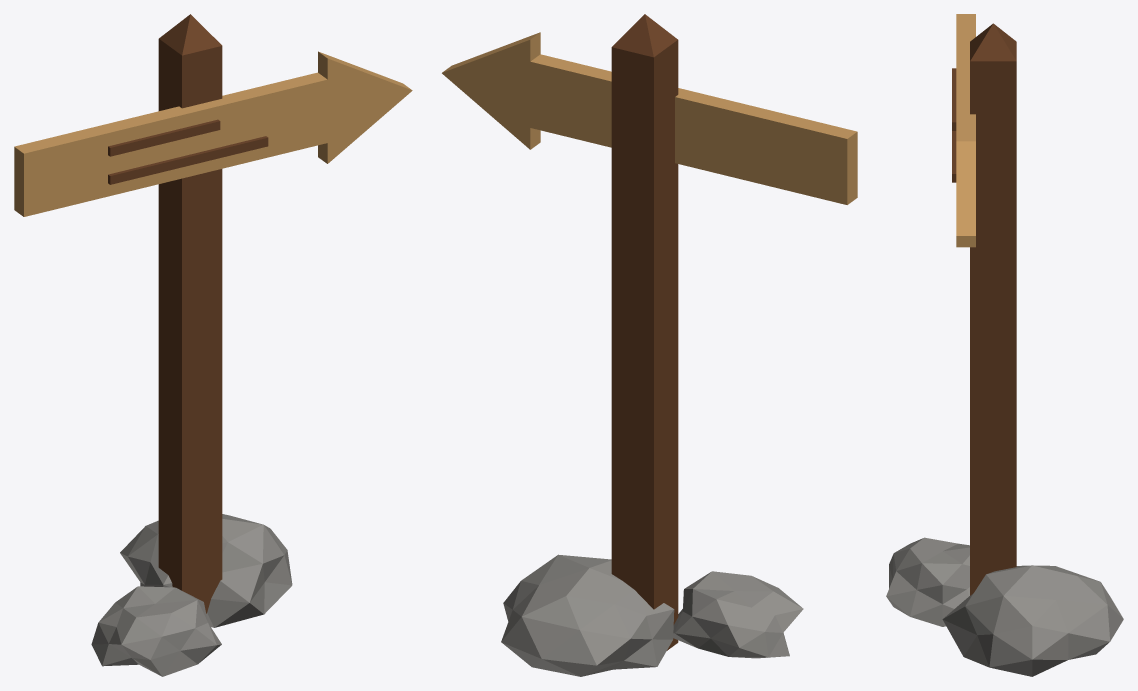
Rendered from signpost-arrow-pixor.glb.
The picture shows the model from 3 angles, left to right: view 1: azimuth 30°, elevation 25°; view 2: azimuth 150°, elevation 25°; view 3: azimuth 270°, elevation 25°; orthographic projection. The views are drawn at different scales.
Parts seen in each view (by area): view 1: Sign post, Sign face, Sign stones, Sign lettering; view 2: Sign post, Sign face, Sign stones; view 3: Sign post, Sign stones, Sign face, Sign lettering.
Part boxes in pixels (<box>): Sign post: <box>158,14,222,613</box>; Sign face: <box>14,51,412,216</box>; Sign stones: <box>91,514,292,676</box>; Sign lettering: <box>108,119,268,184</box>; Sign post: <box>611,14,678,650</box>; Sign face: <box>442,32,857,204</box>; Sign stones: <box>501,554,803,676</box>; Sign post: <box>970,23,1016,595</box>; Sign stones: <box>886,537,1123,676</box>; Sign face: <box>956,14,975,247</box>; Sign lettering: <box>952,68,956,182</box>.
Bounding box in the file's own units: 1.16 × 1.72 × 0.6107.
